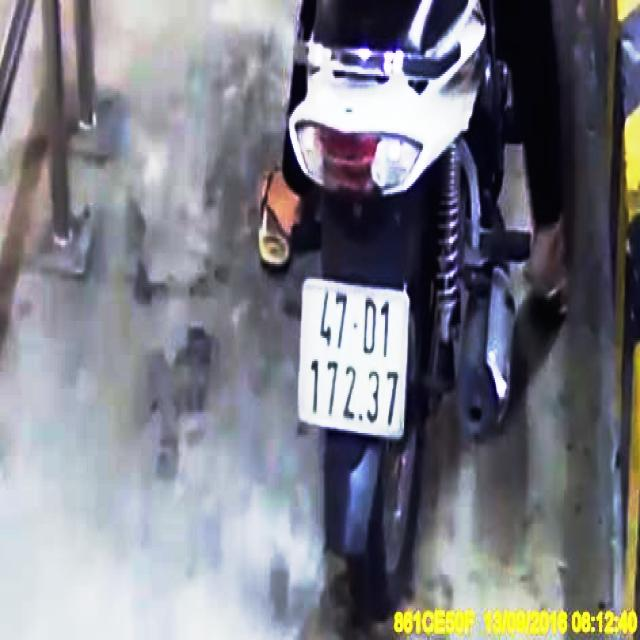license_plate: (297, 280, 410, 440)
